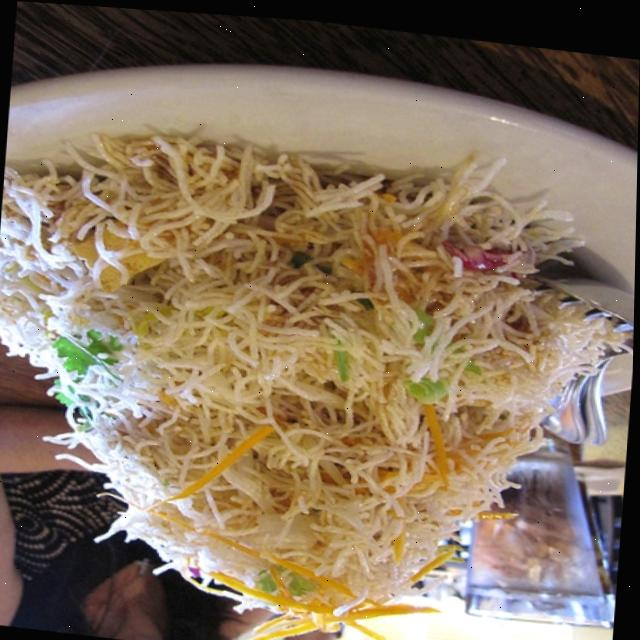面条主食: (0, 106, 604, 640)
